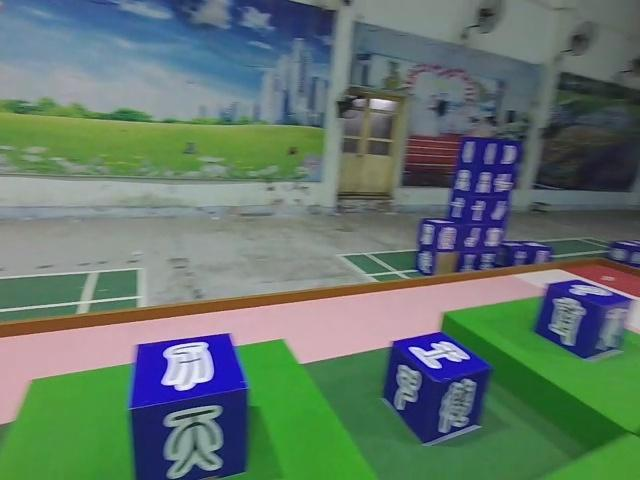R2 Fake Blue: (129, 332, 251, 479), (385, 329, 493, 445), (534, 278, 632, 367)
